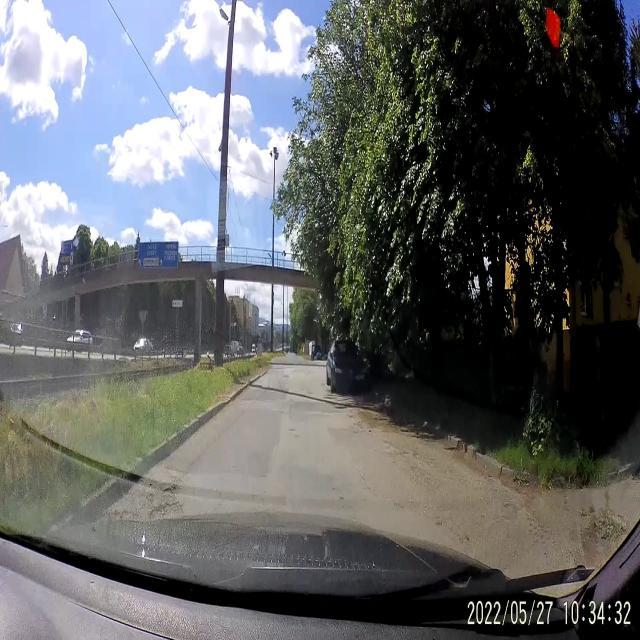Pothole: (134, 476, 190, 514)
